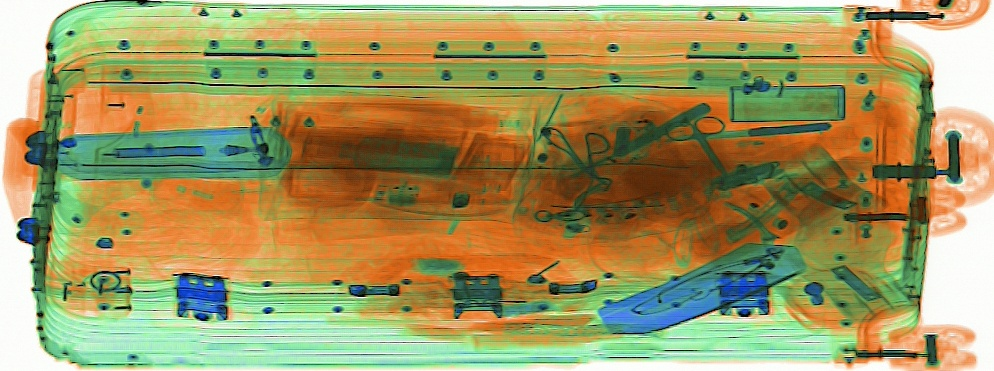scissors: (665, 109, 735, 189)
